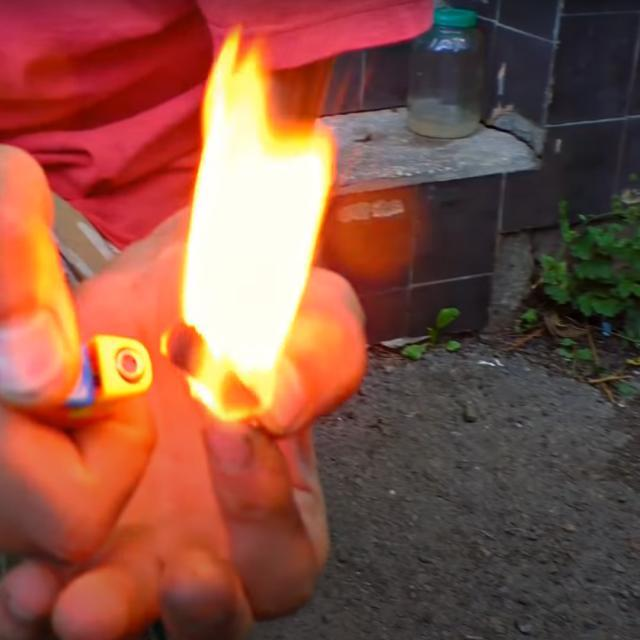Fire: (162, 29, 339, 420)
